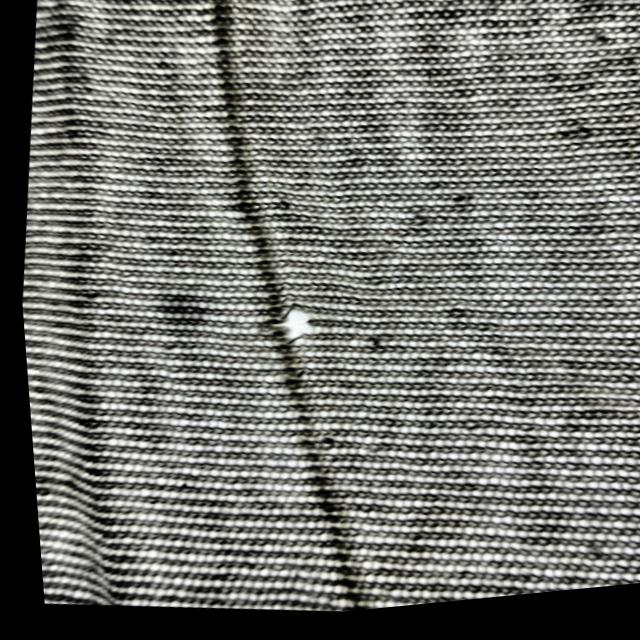Hole: (134, 273, 209, 356), (259, 294, 321, 360)
